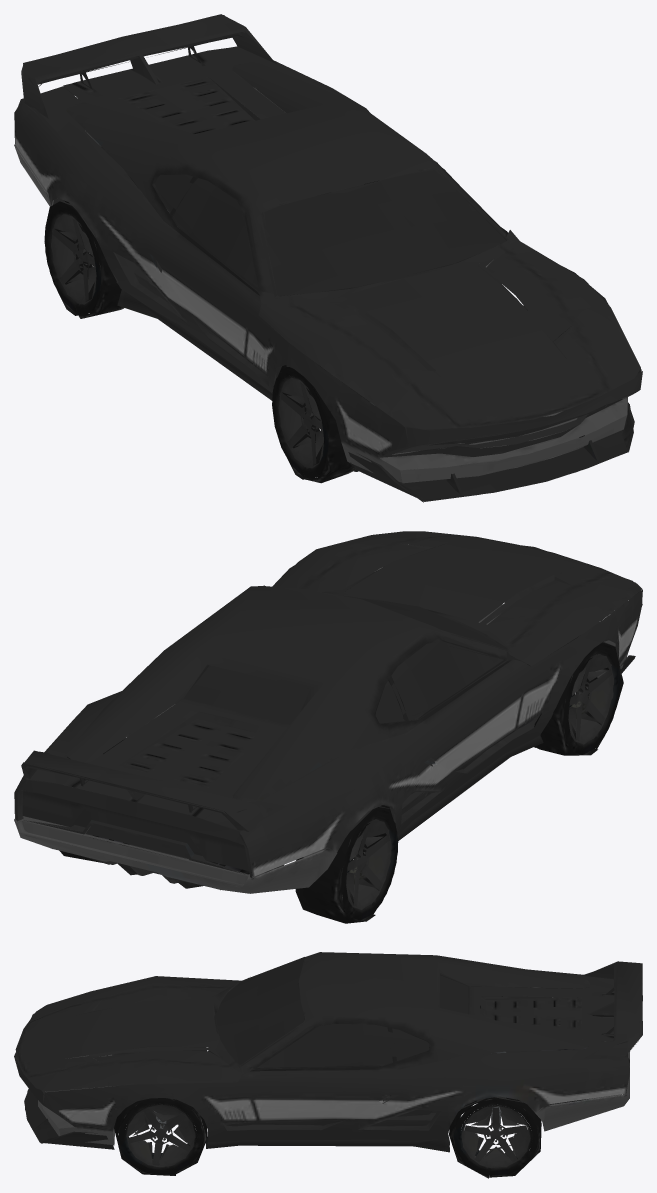
The model's file is cyberpunk-car-lite.glb.
The picture shows the model from 3 angles, top to bottom: view 1: azimuth 30°, elevation 25°; view 2: azimuth 150°, elevation 25°; view 3: azimuth 270°, elevation 25°; orthographic projection. The views are drawn at different scales.
Parts seen in each view (by area): view 1: cb_car_export_cb_car_0; view 2: cb_car_export_cb_car_0; view 3: cb_car_export_cb_car_0.
Part boxes in pixels (x1=…): cb_car_export_cb_car_0: x1=14, y1=14, x2=642, y2=502; cb_car_export_cb_car_0: x1=14, y1=531, x2=642, y2=923; cb_car_export_cb_car_0: x1=14, y1=952, x2=642, y2=1178.
Size of the model in its own units: 1.85 by 1.16 by 4.5.
Materials: 1 (1 with a texture image).
